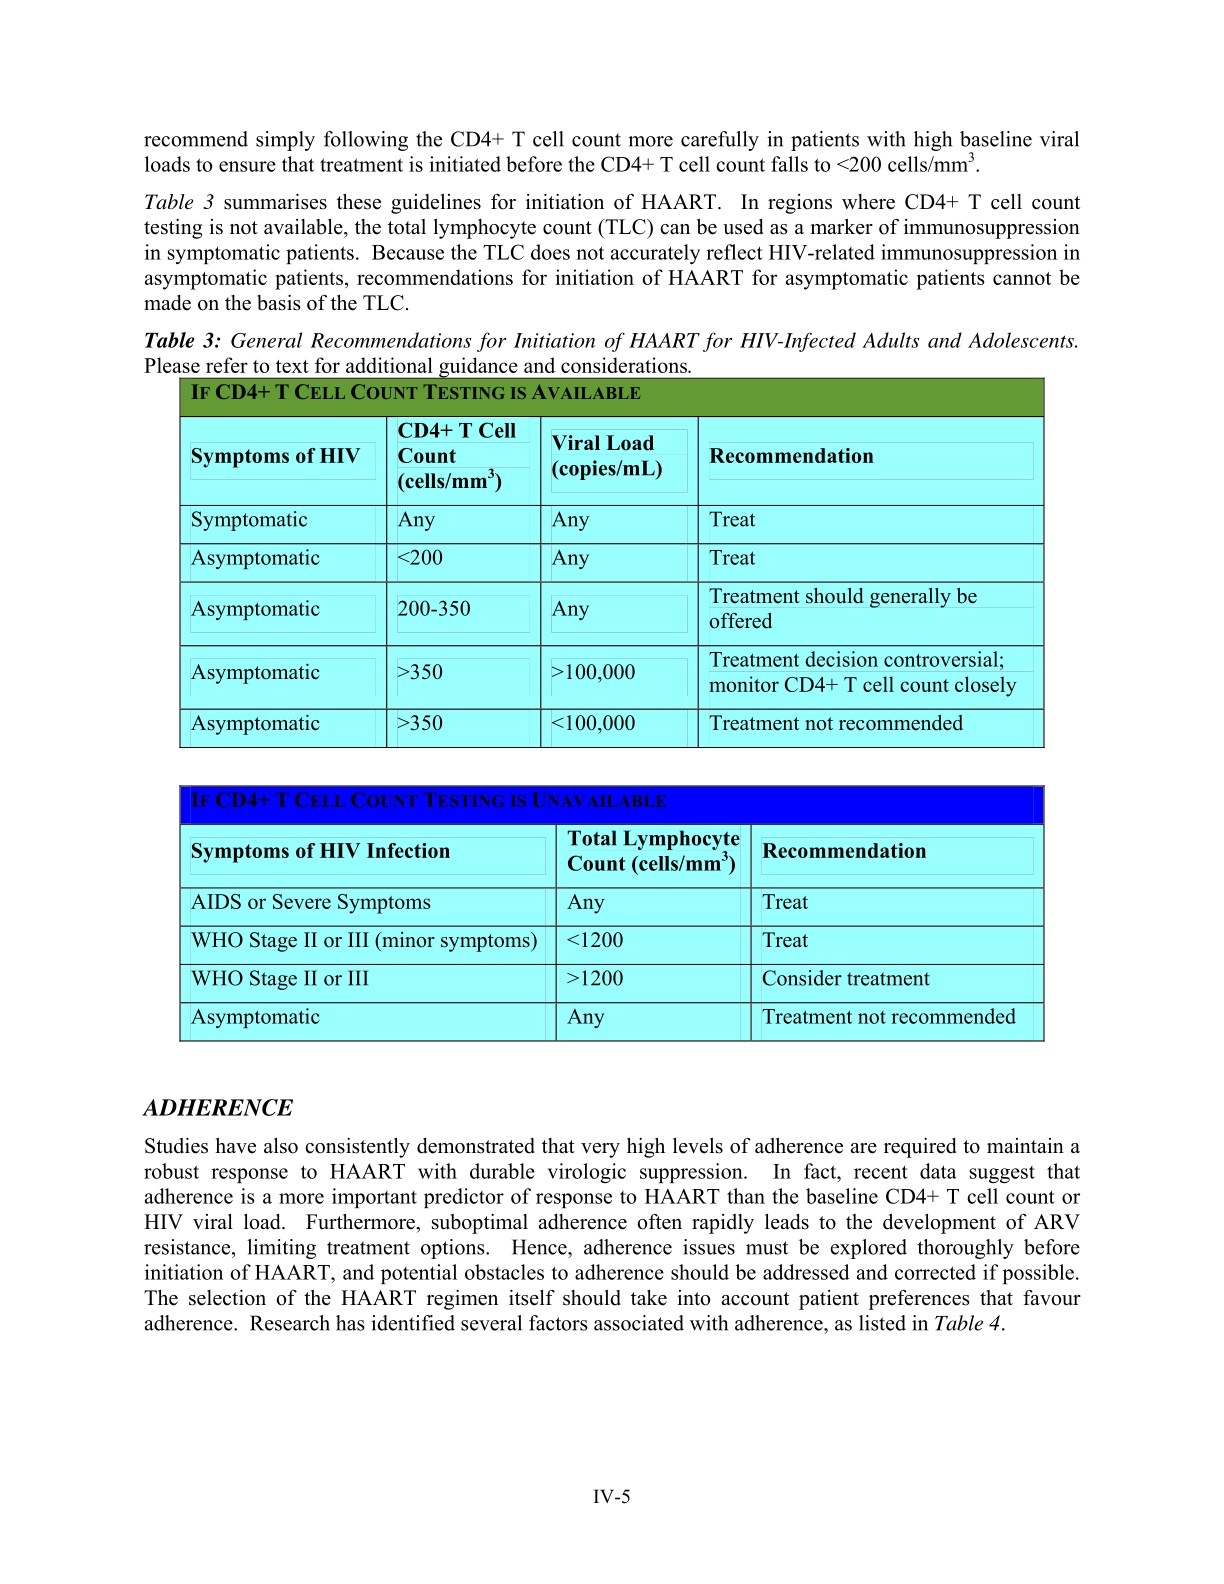full_lined: (177, 786, 1045, 1041)
merged_cells: (177, 377, 1045, 748)
